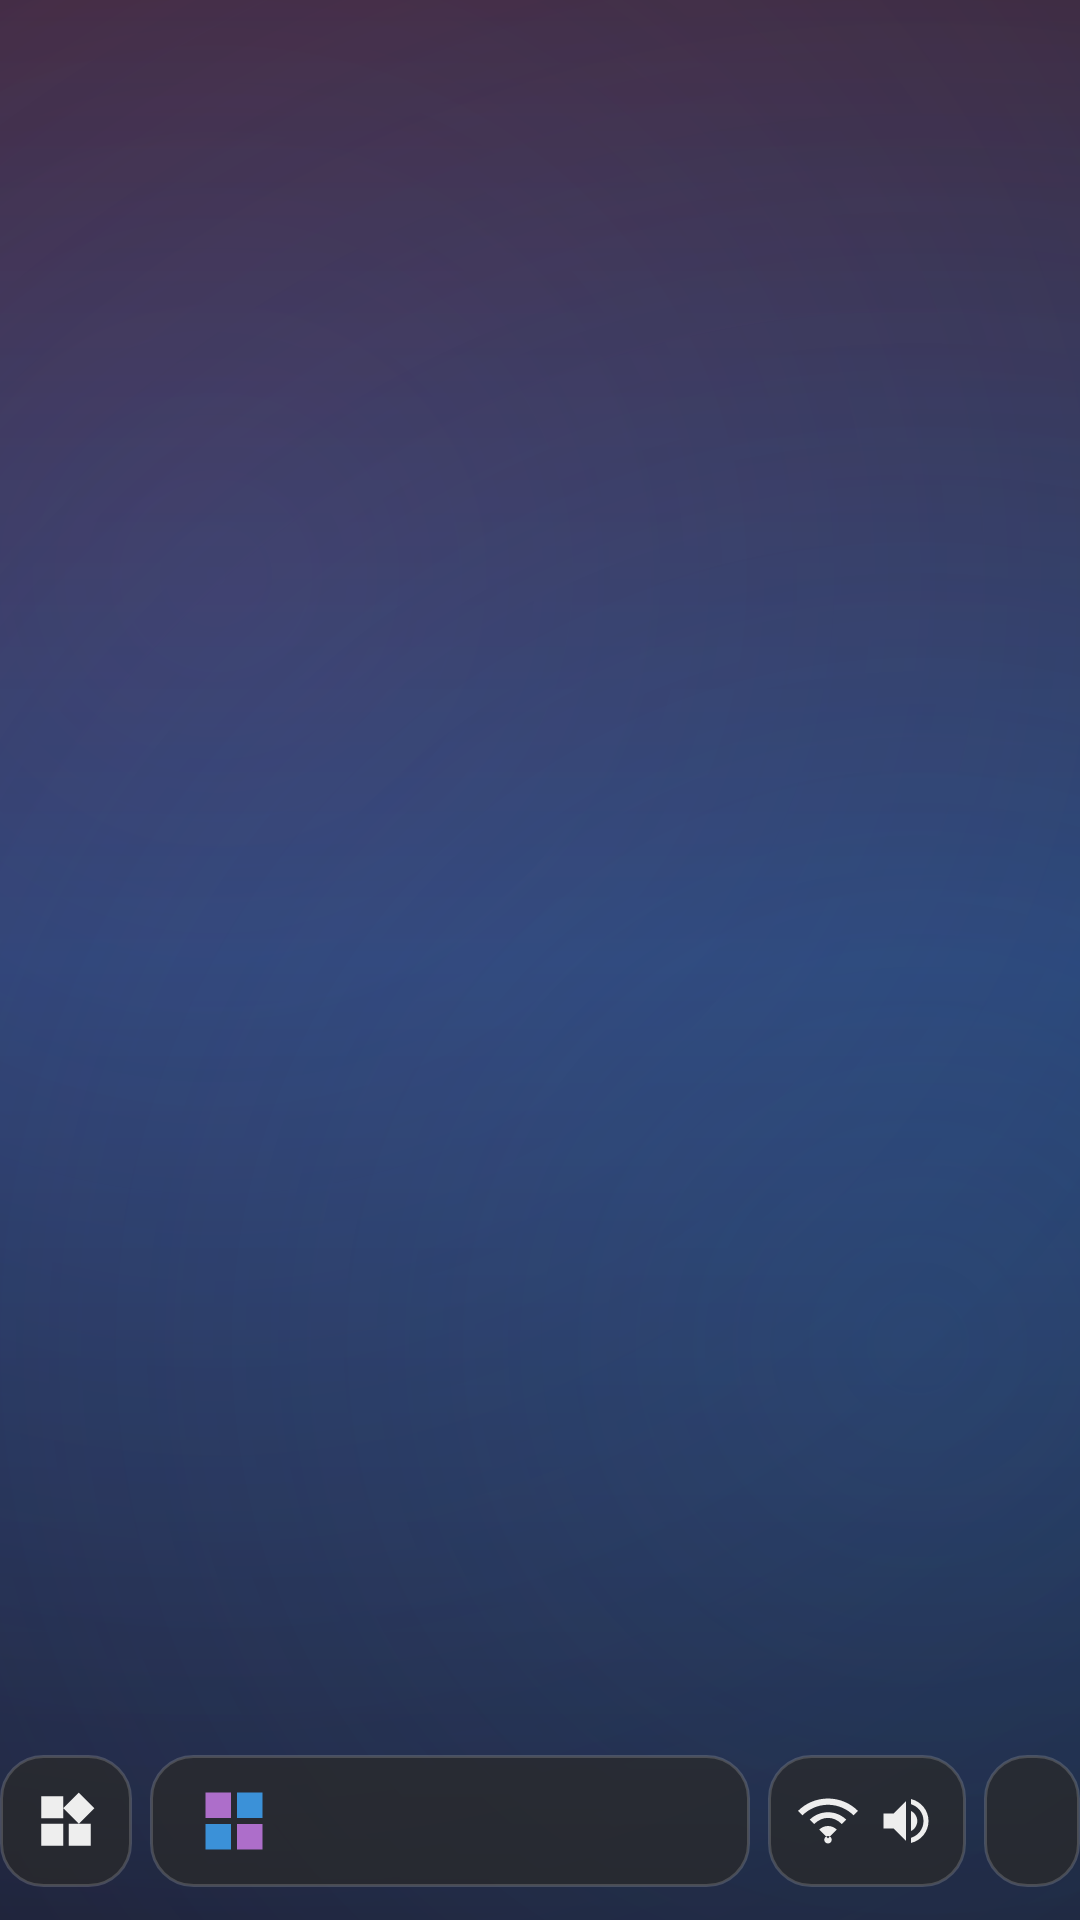

Point at icon controls on the screen. Image size 1080×1920, points as point (x, y).
volume: point (906, 1821)
widgets: point (68, 1819)
wifi: point (828, 1821)
